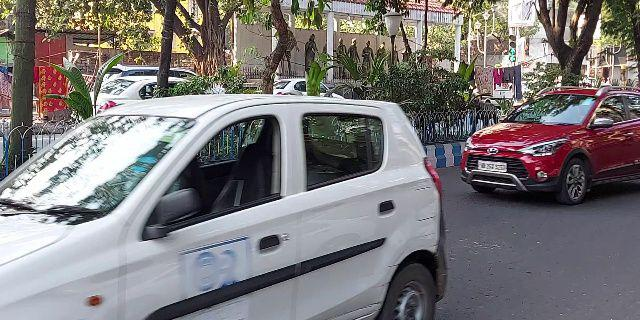Car: (8, 97, 451, 319), (460, 84, 640, 207)
